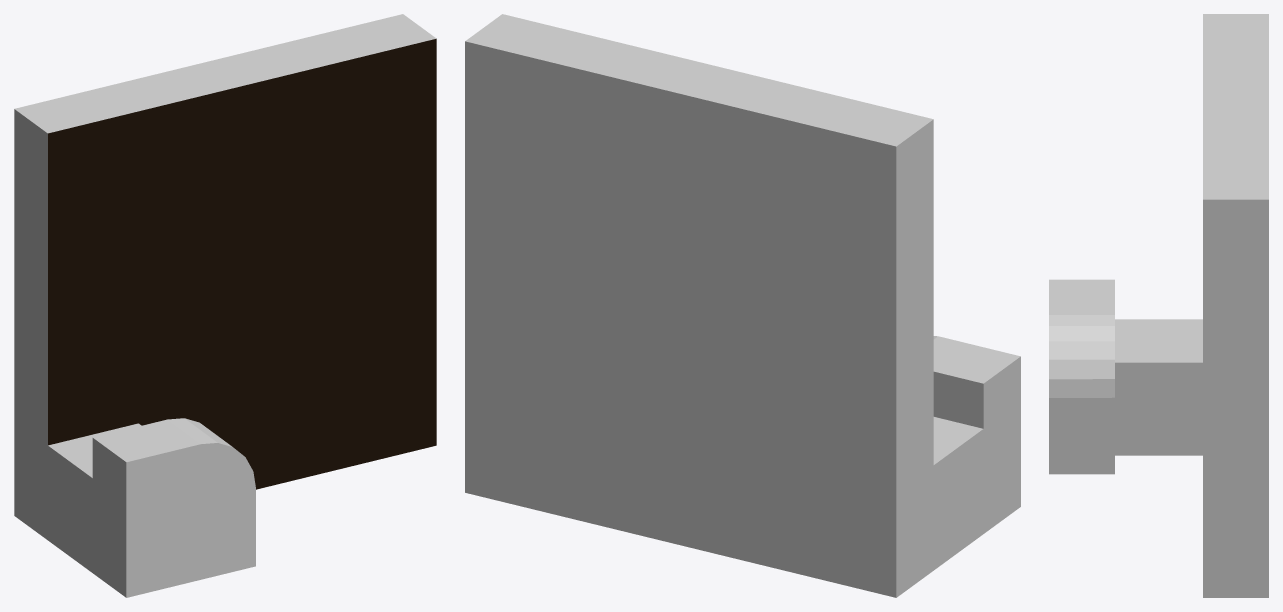
Rendered from block_edge.fbx.
The picture shows the model from 3 angles, left to right: view 1: azimuth 30°, elevation 25°; view 2: azimuth 150°, elevation 25°; view 3: azimuth 270°, elevation 25°; orthographic projection. The views are drawn at different scales.
Visible parts, largest first — view 1: block_edge; view 2: block_edge; view 3: block_edge.
Part boxes in pixels (<box>): block_edge: <box>14,14,436,597</box>; block_edge: <box>465,14,1020,597</box>; block_edge: <box>1049,14,1268,597</box>.
Bounding box in the file's own units: 0.2 × 0.2 × 0.1.
